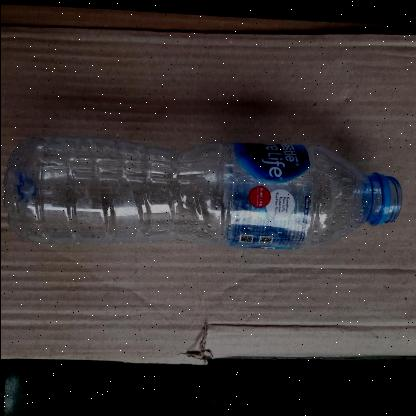Plastic Bottle: (1, 134, 400, 250)
